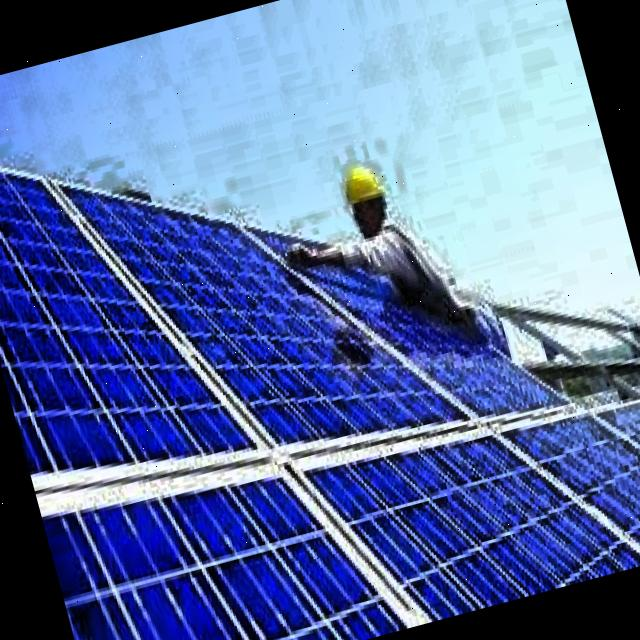helmet: (332, 148, 397, 241)
